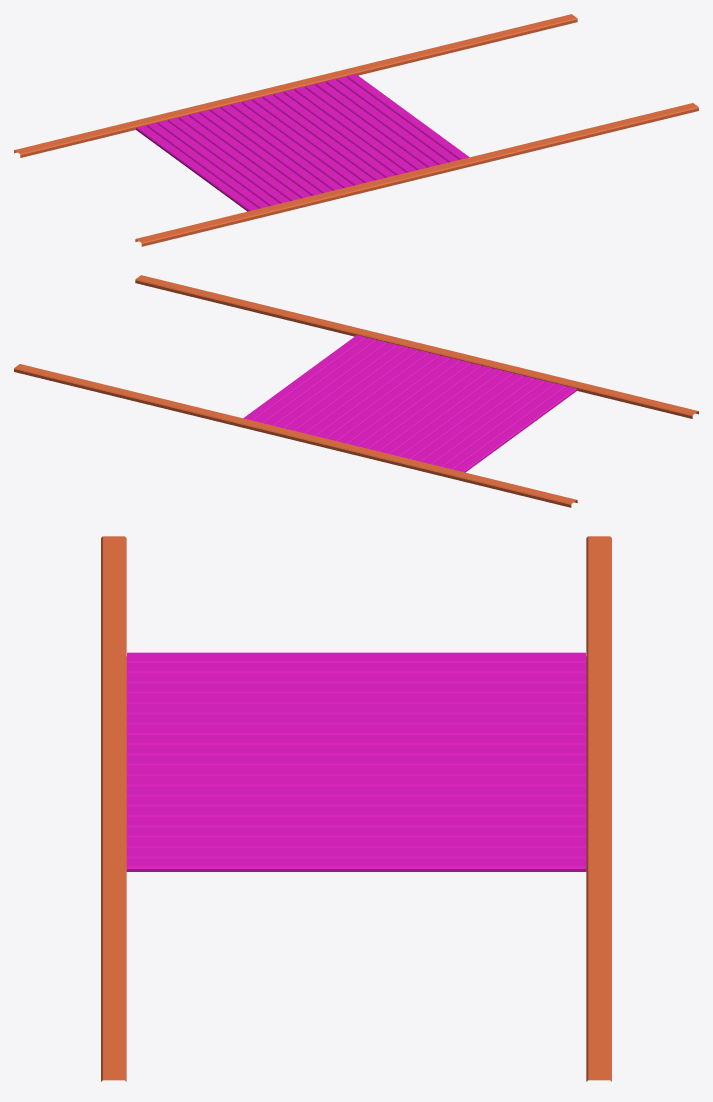
Rendered from Trap_Floor.fbx.
3 renders of one model, top to bottom at view 1: azimuth 30°, elevation 25°; view 2: azimuth 150°, elevation 25°; view 3: azimuth 270°, elevation 25°, orthographic. The views are drawn at different scales.
Parts seen in each view (by area): view 1: Floor.004; view 2: Floor.004; view 3: Floor.004.
Part boxes in pixels (bbox=[...]): Floor.004: bbox=[14, 14, 698, 246]; Floor.004: bbox=[14, 275, 698, 507]; Floor.004: bbox=[101, 536, 611, 1081].
Size of the model in its own units: 2520 by 16.05 by 1000.
